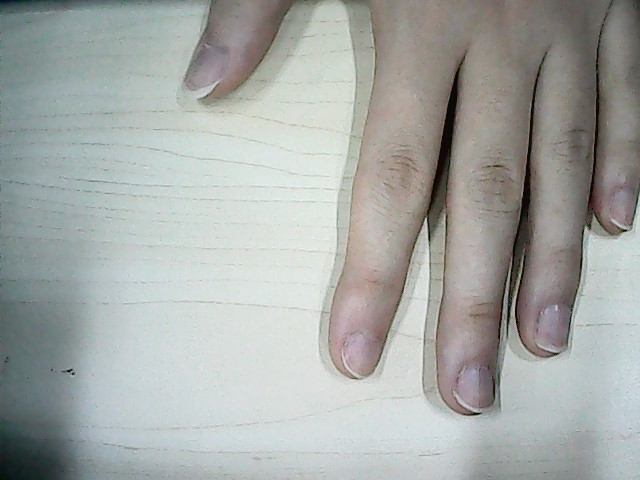nail: (185, 49, 219, 98), (458, 366, 494, 411), (343, 334, 378, 380), (540, 304, 569, 356), (613, 190, 633, 229)
